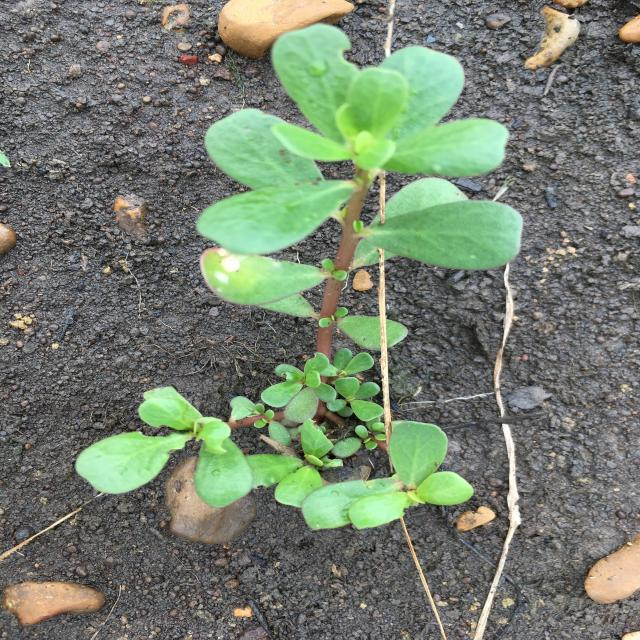Purslane: (75, 23, 523, 530)
